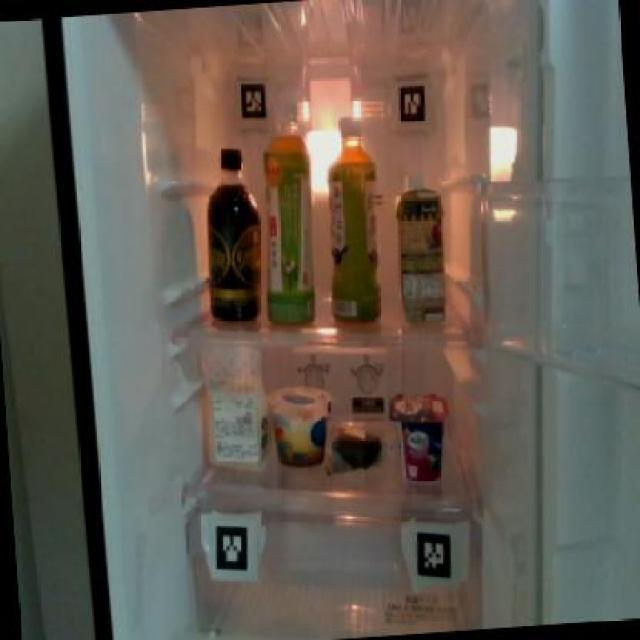bottle: (316, 110, 387, 328), (254, 117, 323, 328)
coffee: (197, 136, 266, 327)
pudding: (268, 382, 327, 468)
rice_ball: (328, 417, 386, 474)
sandwich: (195, 334, 274, 474)
smoothie: (391, 173, 451, 324)
yogurt: (386, 384, 454, 486)
